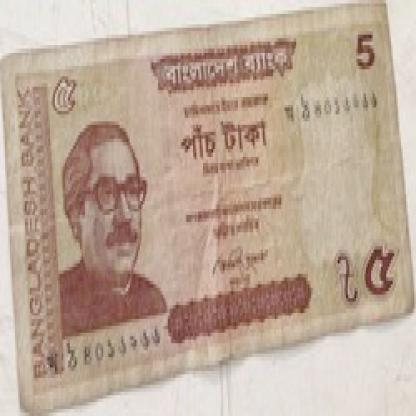Five Taka: (180, 114, 270, 163), (360, 225, 400, 305), (50, 66, 86, 121), (351, 28, 381, 76)
